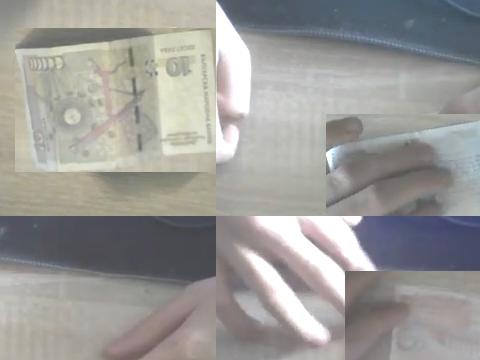10leva: (15, 28, 216, 172)
20leva: (326, 118, 480, 216)
5leva: (366, 271, 480, 360)
